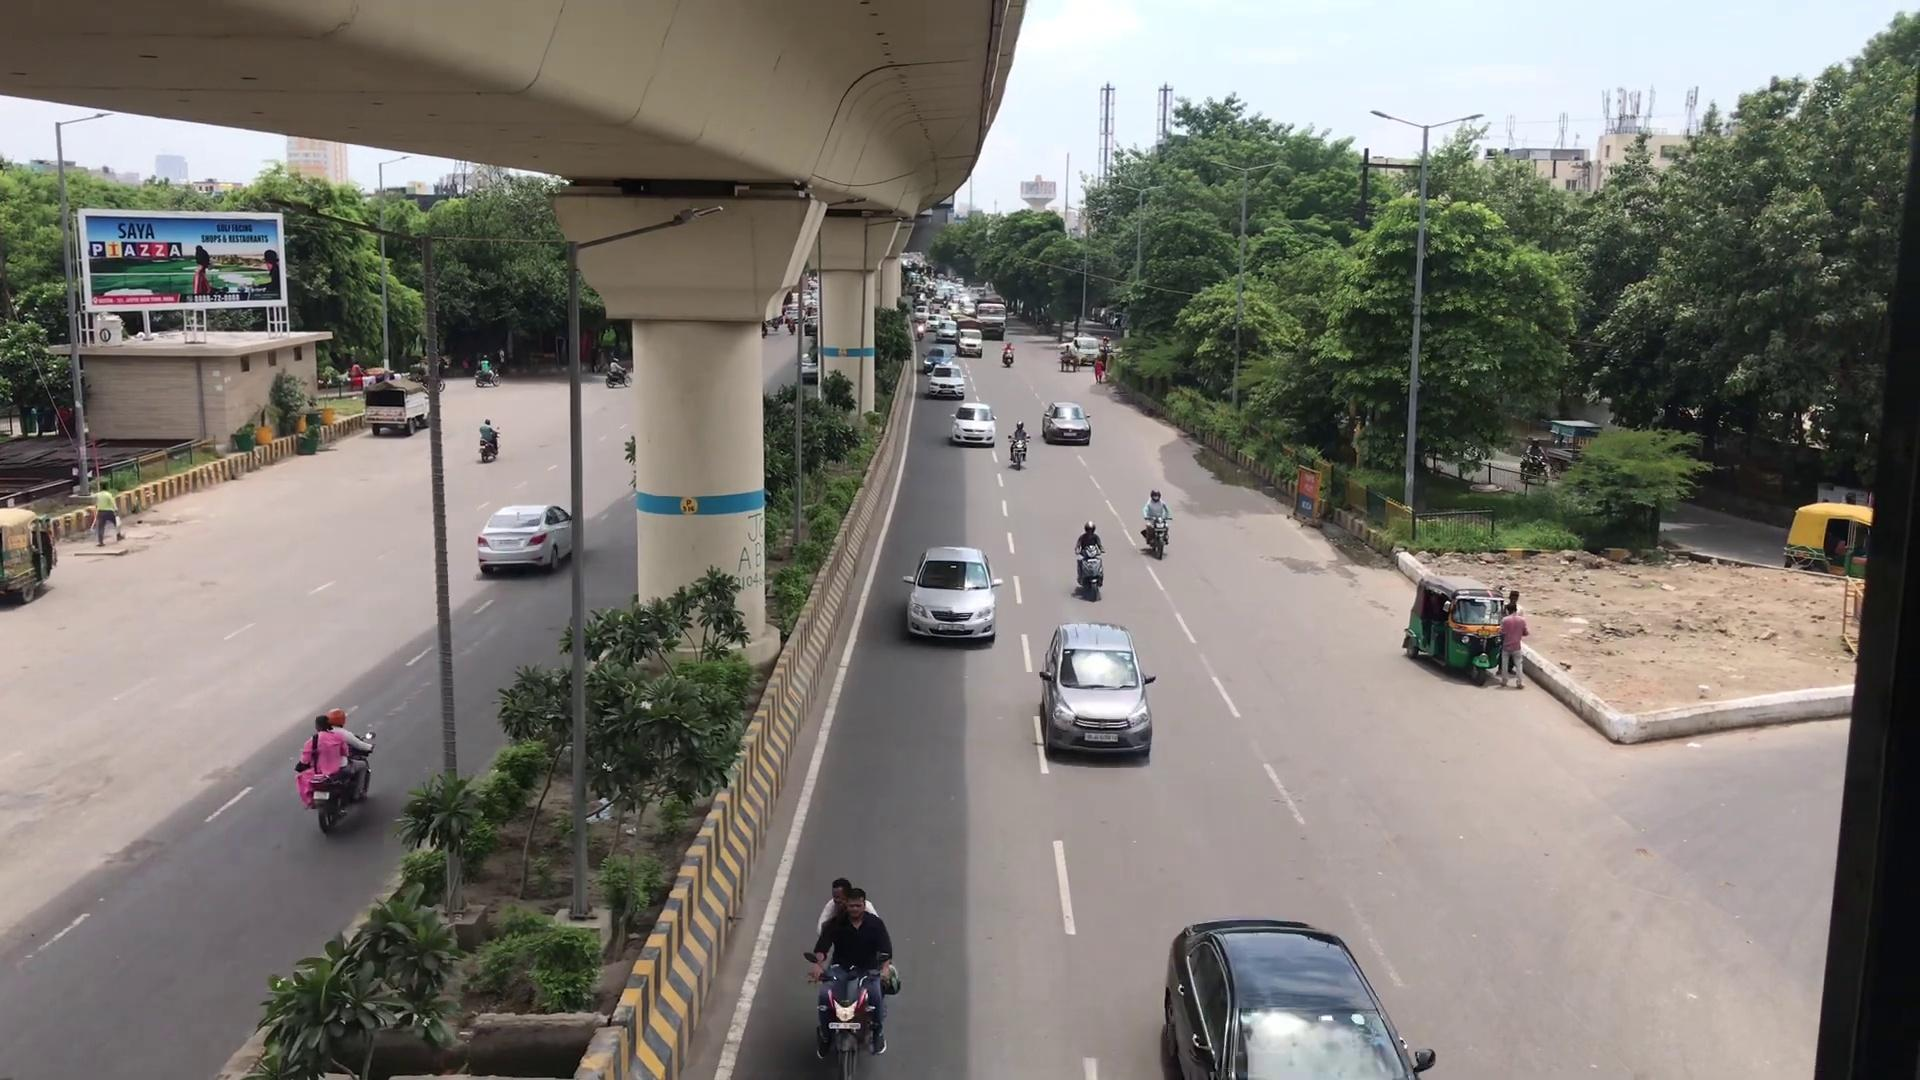Bike: (803, 870, 898, 1079), (291, 704, 382, 843), (1073, 512, 1105, 601), (1138, 485, 1172, 559), (1006, 418, 1029, 471)
Car: (1036, 618, 1153, 761), (901, 541, 1000, 642), (477, 497, 578, 571)
